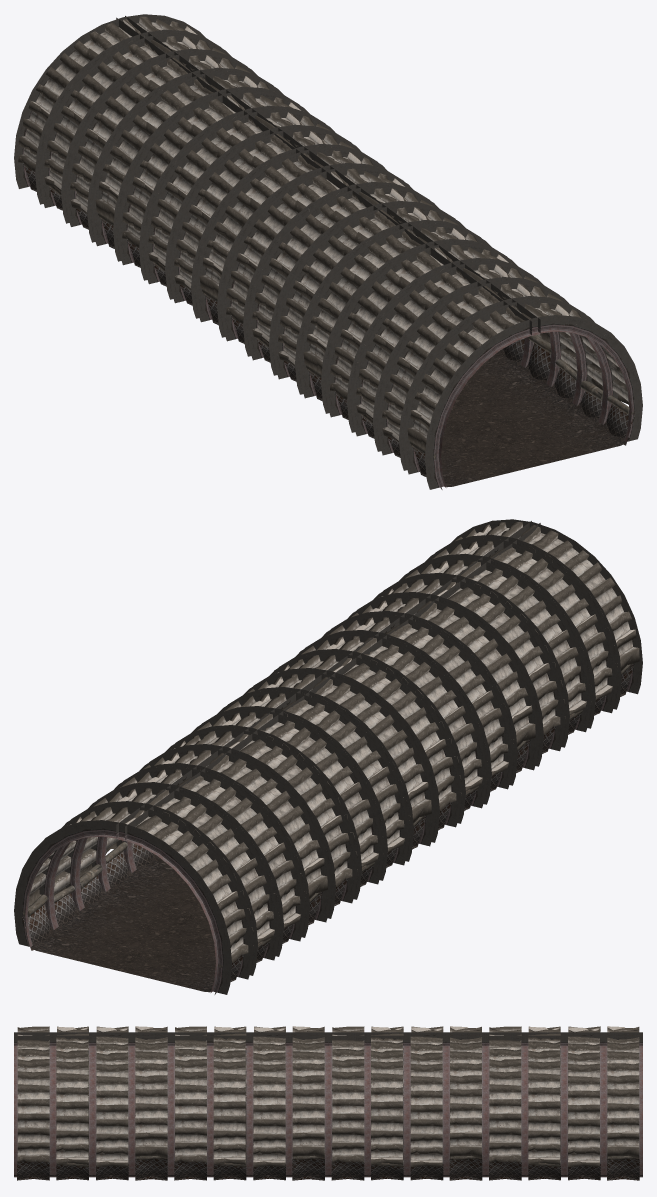
Rendered from tunnel_tile_5.dae.
The picture shows the model from 3 angles, top to bottom: view 1: azimuth 30°, elevation 25°; view 2: azimuth 150°, elevation 25°; view 3: azimuth 270°, elevation 25°; orthographic projection. The views are drawn at different scales.
Visible parts, largest first — view 1: Walls, Ground, Chainlink, Wood; view 2: Walls, Ground, Chainlink, Wood; view 3: Walls, Chainlink, Ground, Wood.
Boxes of the visible parts, x1=… form: Walls: x1=14, y1=14, x2=642, y2=489; Ground: x1=441, y1=349, x2=629, y2=487; Chainlink: x1=23, y1=163, x2=634, y2=489; Wood: x1=49, y1=185, x2=633, y2=459; Walls: x1=14, y1=519, x2=642, y2=994; Ground: x1=27, y1=854, x2=215, y2=992; Chainlink: x1=22, y1=664, x2=634, y2=994; Wood: x1=22, y1=664, x2=632, y2=967; Walls: x1=14, y1=1026, x2=642, y2=1177; Chainlink: x1=17, y1=1091, x2=639, y2=1180; Ground: x1=14, y1=1106, x2=642, y2=1176; Wood: x1=24, y1=1088, x2=638, y2=1166.
Bounding box in the file's own units: 606 × 399 × 2000.
5 materials, 5 textured.
